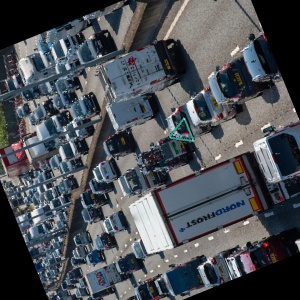triangle: (167, 116, 196, 144)
